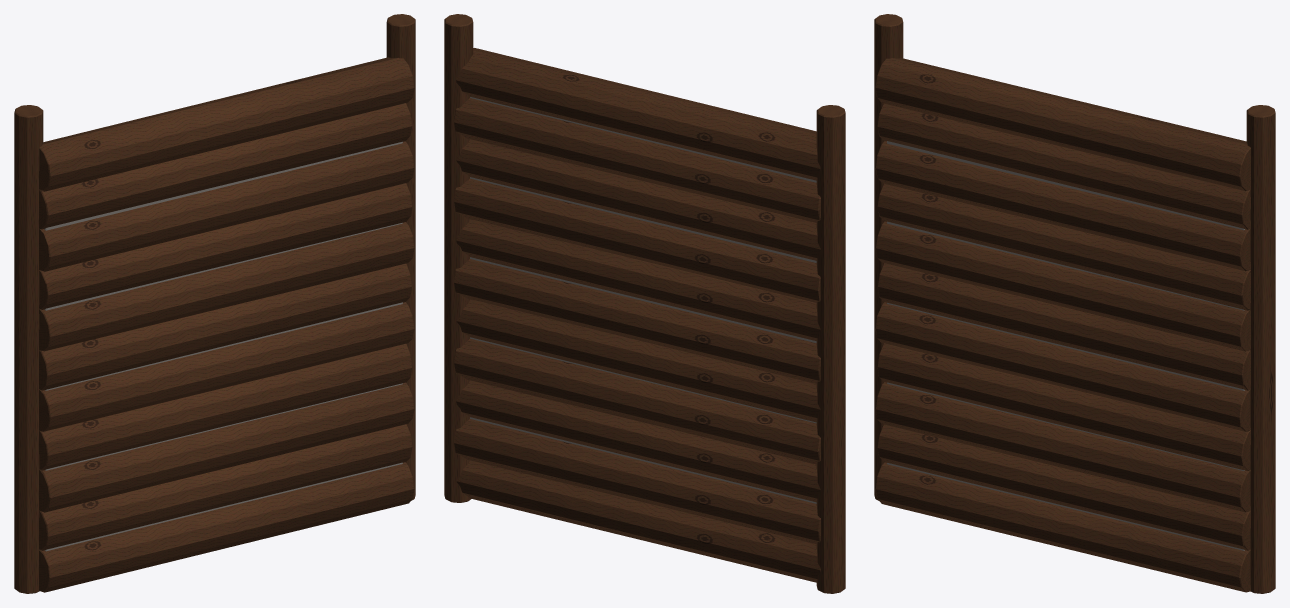
File: cabin_log_wall.glb
3 views of the same model, side by side, from view 1: azimuth 30°, elevation 25°; view 2: azimuth 150°, elevation 25°; view 3: azimuth 330°, elevation 25° (orthographic).
Parts seen in each view (by area): view 1: log_10, log_2, log_0, log_8, log_6, log_4, log_3, log_5, log_7, log_1, log_9, post_0 (+6 smaller); view 2: log_10, log_3, log_1, log_9, log_5, log_7, log_0, log_4, log_6, log_8, post_0, log_2 (+6 smaller); view 3: log_10, log_2, log_0, log_8, log_6, log_4, log_3, log_5, log_7, log_1, log_9, post_1 (+6 smaller).
Boxes of the visible parts, x1,y1,x2,y2 form: log_10: [39, 57, 414, 191]; log_2: [39, 382, 414, 512]; log_0: [39, 462, 414, 592]; log_8: [39, 141, 414, 271]; log_6: [39, 222, 414, 351]; log_4: [39, 302, 414, 431]; log_3: [39, 343, 411, 470]; log_5: [39, 263, 411, 390]; log_7: [39, 183, 412, 309]; log_1: [39, 424, 412, 550]; log_9: [39, 103, 412, 229]; post_0: [14, 105, 43, 593]; log_10: [456, 48, 820, 180]; log_3: [454, 338, 820, 464]; log_1: [453, 419, 820, 544]; log_9: [454, 98, 820, 222]; log_5: [454, 259, 820, 383]; log_7: [454, 178, 820, 302]; log_0: [456, 460, 820, 582]; log_4: [456, 299, 820, 422]; log_6: [456, 219, 820, 340]; log_8: [456, 139, 820, 260]; post_0: [816, 105, 845, 593]; log_2: [456, 380, 820, 502]; log_10: [875, 58, 1250, 191]; log_2: [875, 382, 1250, 512]; log_0: [875, 462, 1250, 592]; log_8: [875, 141, 1250, 271]; log_6: [875, 221, 1250, 351]; log_4: [875, 302, 1250, 431]; log_3: [877, 343, 1250, 470]; log_5: [877, 263, 1250, 390]; log_7: [877, 183, 1250, 310]; log_1: [877, 424, 1250, 550]; log_9: [877, 103, 1250, 229]; post_1: [1246, 105, 1275, 593].
Bounding box in the file's own units: 2.17 × 2.5 × 0.2543.
Materials: 2 (1 with a texture image).
